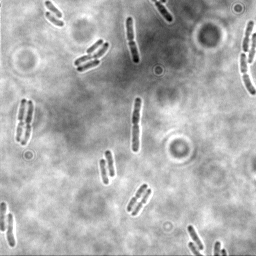Dividing: (237, 52, 256, 96), (124, 17, 140, 64), (130, 97, 143, 154), (20, 99, 35, 146), (126, 183, 148, 214), (14, 98, 28, 144), (131, 188, 153, 217), (240, 19, 255, 52), (245, 33, 256, 64)
Microcolony: (73, 38, 110, 73)
Rod: (186, 224, 204, 251), (154, 2, 174, 23), (6, 213, 17, 248), (98, 159, 111, 186), (44, 1, 64, 18), (104, 149, 115, 178), (44, 13, 65, 28), (1, 200, 8, 233)
